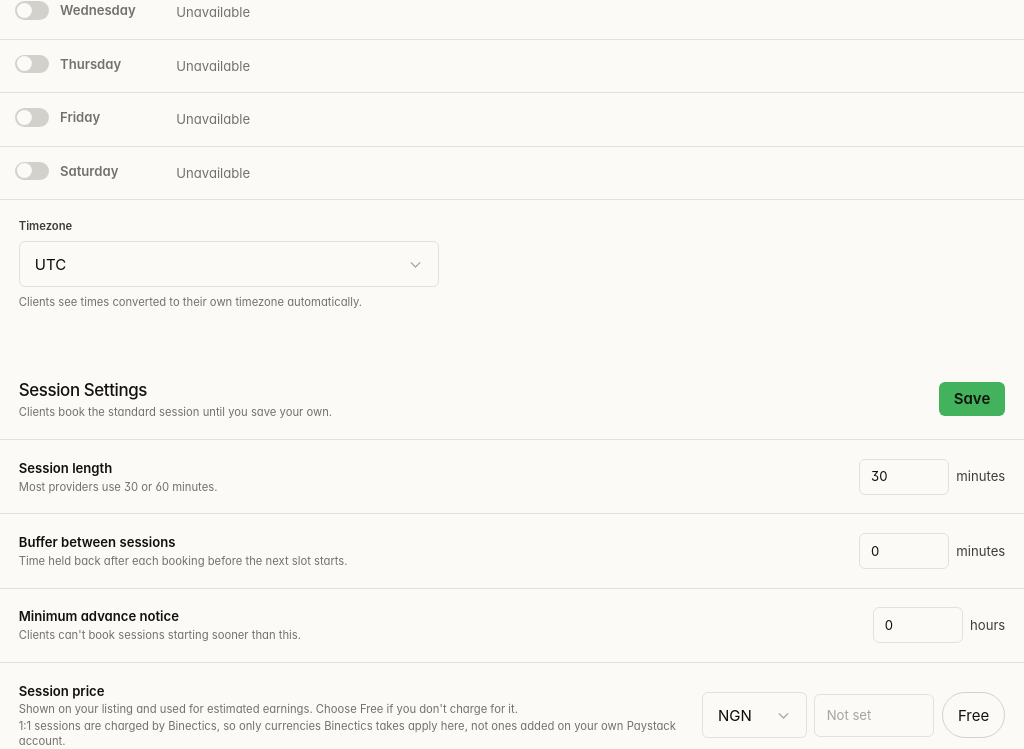
ConsultationAvailabilityManager, session price round-trip › saves a free session, as a price of 0, when Free is chosen
The image size is (1024, 749).
(page scrolled)
Step 1. Click the switch labelled "Free" → x=974, y=715, box left=942, top=692, right=1005, bottom=738
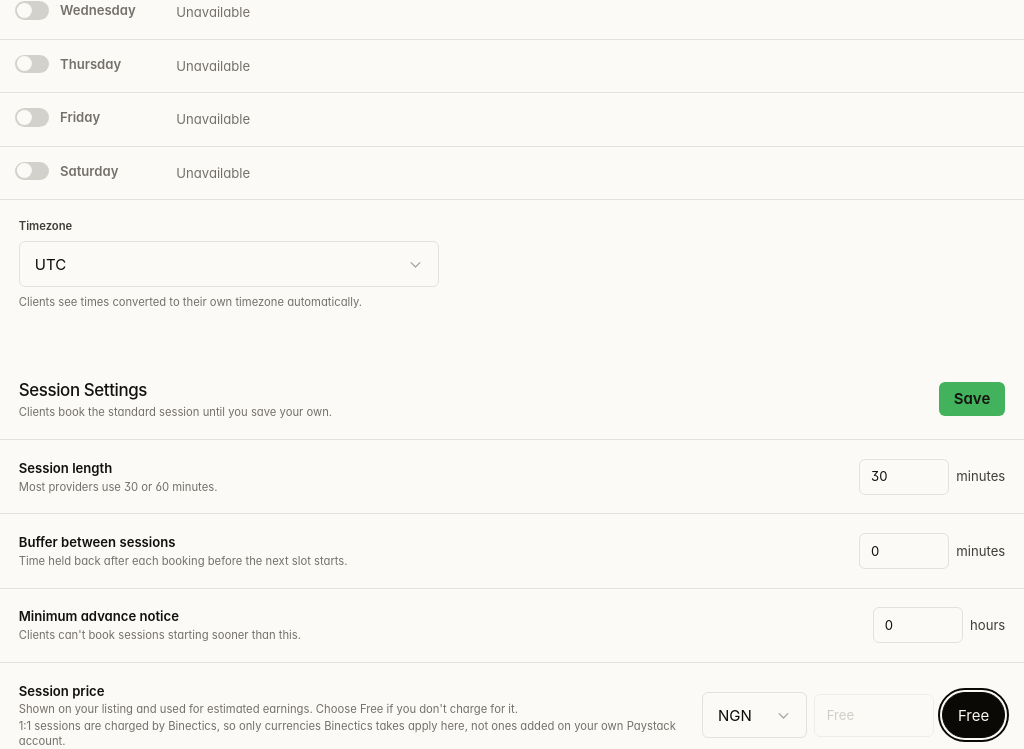
Result: the field named "Session price" is disabled at left=814, top=694, right=934, bottom=737
Step 2. Click the button "Save" → x=972, y=399, box left=939, top=382, right=1005, bottom=416
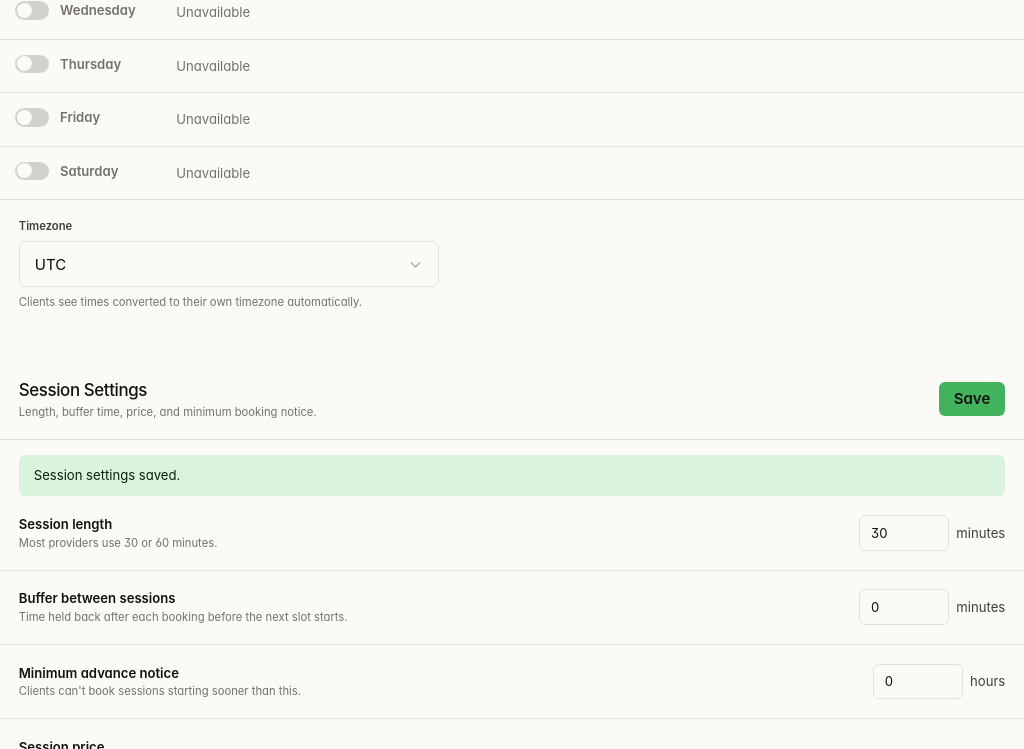
Result: the text "Session settings saved." is shown at left=19, top=455, right=1005, bottom=496
